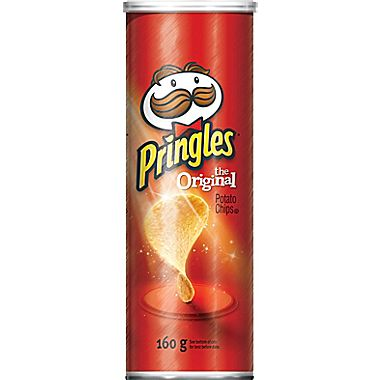pringle: (121, 6, 260, 374)
